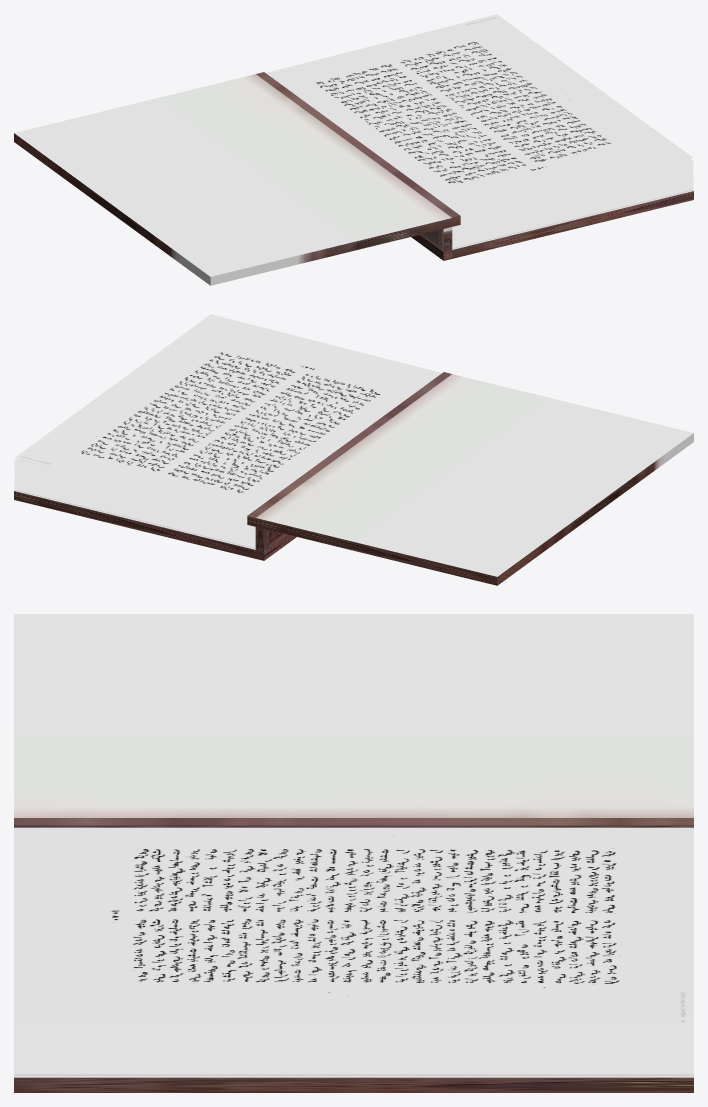
Rendered from animated_book.glb.
3 views of the same model, one above another, from view 1: azimuth 30°, elevation 25°; view 2: azimuth 150°, elevation 25°; view 3: azimuth 270°, elevation 25° (orthographic). The views are drawn at different scales.
Parts seen in each view (by area): view 1: cover-l_36, paper033_72, cover-r_35, paper032_71, pine_34; view 2: cover-l_36, paper033_72, cover-r_35, paper032_71, pine_34; view 3: cover-l_36, paper033_72, cover-r_35, paper032_71, paper003_42, paper005_44, paper010_49, paper017_56, paper022_61, paper024_63, paper029_68, paper031_70 (+24 smaller).
Part boxes in pixels (x1=…): cover-l_36: x1=14, y1=72, x2=460, y2=285; paper033_72: x1=266, y1=14, x2=692, y2=216; cover-r_35: x1=411, y1=190, x2=693, y2=260; paper032_71: x1=460, y1=158, x2=693, y2=217; pine_34: x1=420, y1=227, x2=452, y2=251; cover-l_36: x1=247, y1=372, x2=693, y2=585; paper033_72: x1=15, y1=314, x2=441, y2=516; cover-r_35: x1=14, y1=490, x2=296, y2=560; paper032_71: x1=14, y1=458, x2=247, y2=517; pine_34: x1=255, y1=527, x2=287, y2=551; cover-l_36: x1=14, y1=614, x2=693, y2=827; paper033_72: x1=14, y1=827, x2=693, y2=1019; cover-r_35: x1=14, y1=1076, x2=693, y2=1092; paper032_71: x1=14, y1=1020, x2=693, y2=1025; paper003_42: x1=14, y1=1069, x2=693, y2=1071; paper005_44: x1=14, y1=1066, x2=693, y2=1068; paper010_49: x1=14, y1=1058, x2=693, y2=1060; paper017_56: x1=14, y1=1047, x2=693, y2=1049; paper022_61: x1=14, y1=1039, x2=693, y2=1041; paper024_63: x1=14, y1=1036, x2=693, y2=1038; paper029_68: x1=14, y1=1028, x2=693, y2=1030; paper031_70: x1=14, y1=1025, x2=693, y2=1027.
Bounding box in the file's own units: 4.54 × 0.3772 × 3.2.
5 materials, 4 textured.
